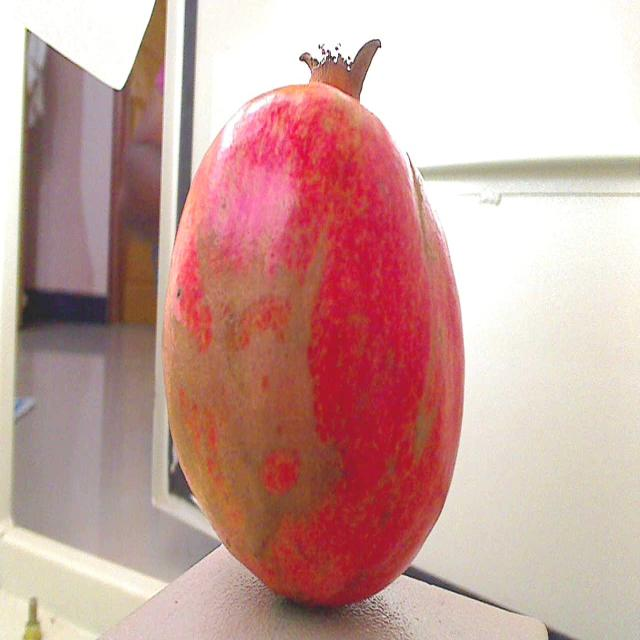pomegranate: (162, 22, 473, 635)
